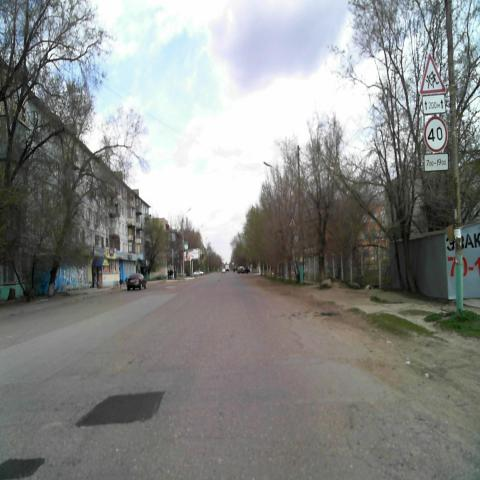8_5_4: (424, 153, 448, 171)
